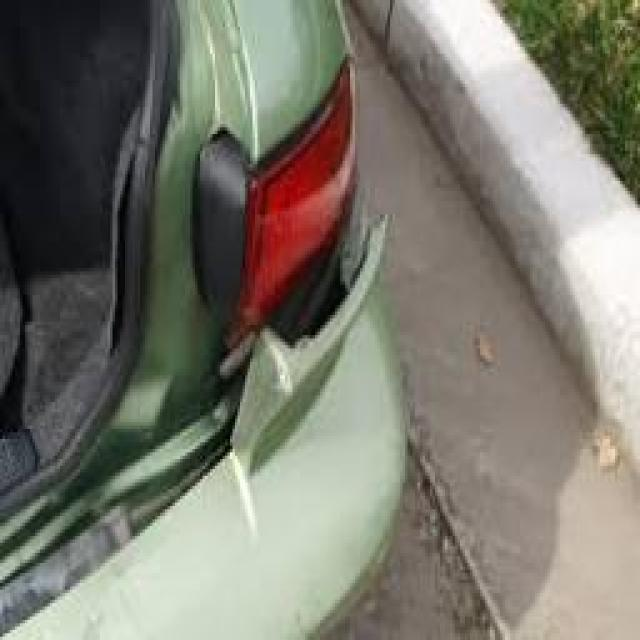replaceable: (232, 303, 413, 433)
